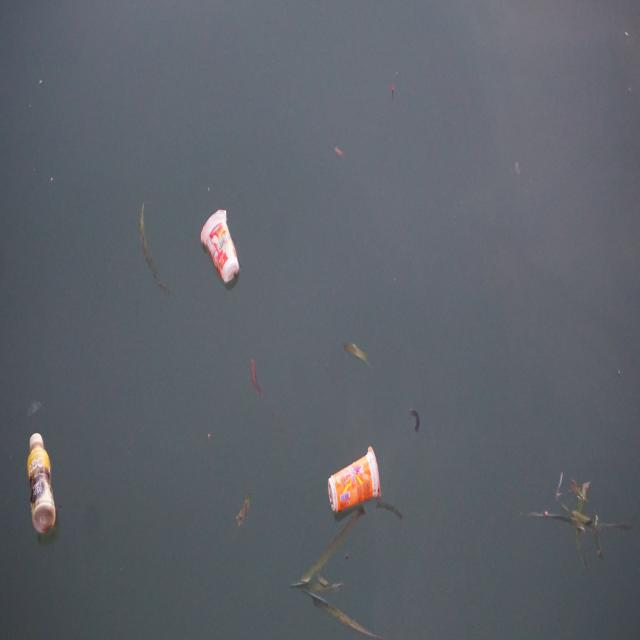Botol Plastik: (23, 422, 65, 540)
Bungkus Minuman: (326, 442, 387, 520), (200, 202, 245, 294)
